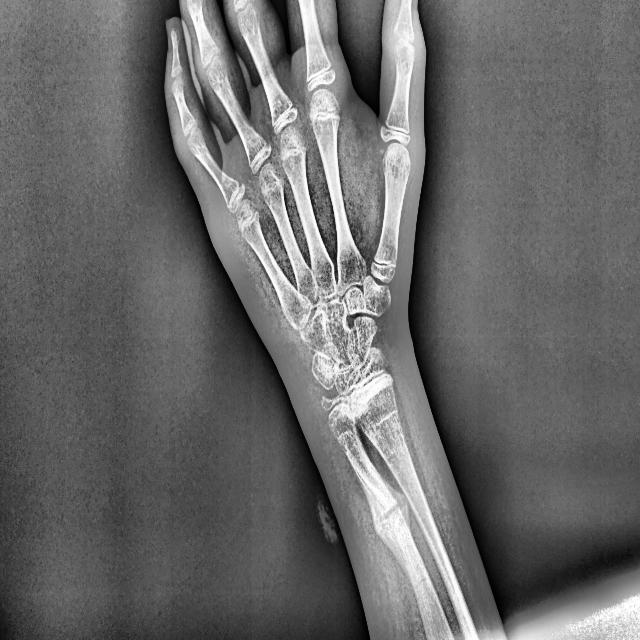Fracture: (351, 475, 426, 550)
